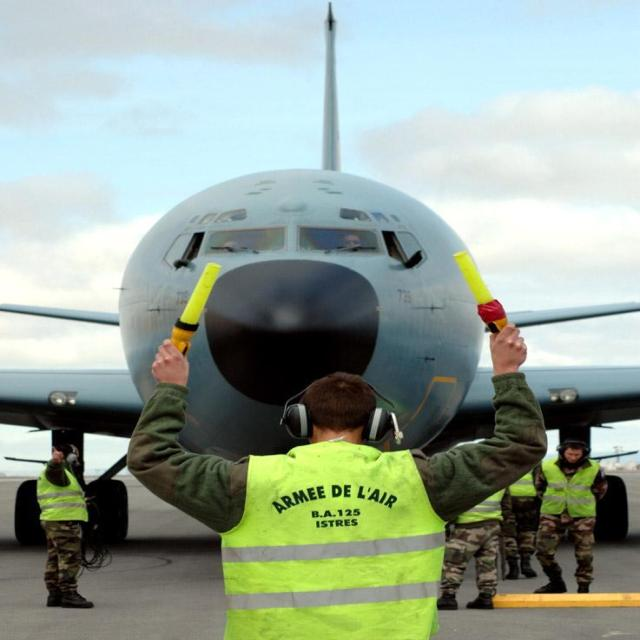Vest: (210, 447, 453, 636), (36, 463, 96, 530), (541, 456, 598, 524)
